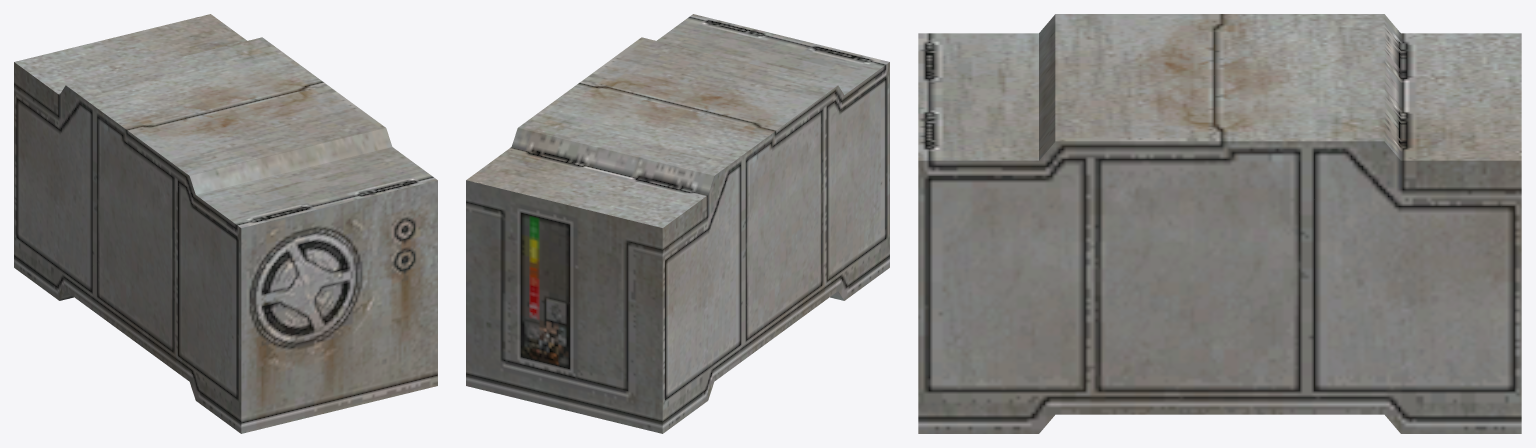
File: con_gen_inorganic_water_lg_l0.fbx
3 views of the same model, side by side, from view 1: azimuth 30°, elevation 25°; view 2: azimuth 150°, elevation 25°; view 3: azimuth 270°, elevation 25° (orthographic). The views are drawn at different scales.
Visible parts, largest first — view 1: mesh_node; view 2: mesh_node; view 3: mesh_node.
Part boxes in pixels (x1=…): mesh_node: x1=14, y1=14, x2=437, y2=433; mesh_node: x1=466, y1=14, x2=889, y2=433; mesh_node: x1=918, y1=14, x2=1521, y2=433.
Size of the model in its own units: 0.8255 by 0.8836 by 1.65.
